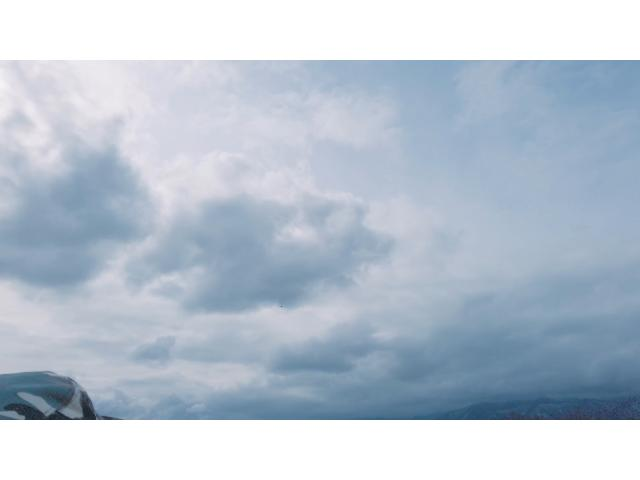Anti-Drone: (277, 302, 287, 312)
